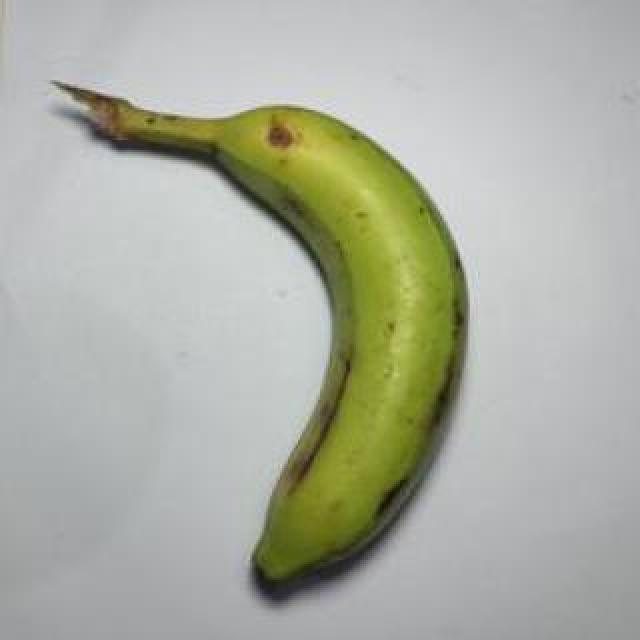Unripe: (46, 76, 471, 594)
